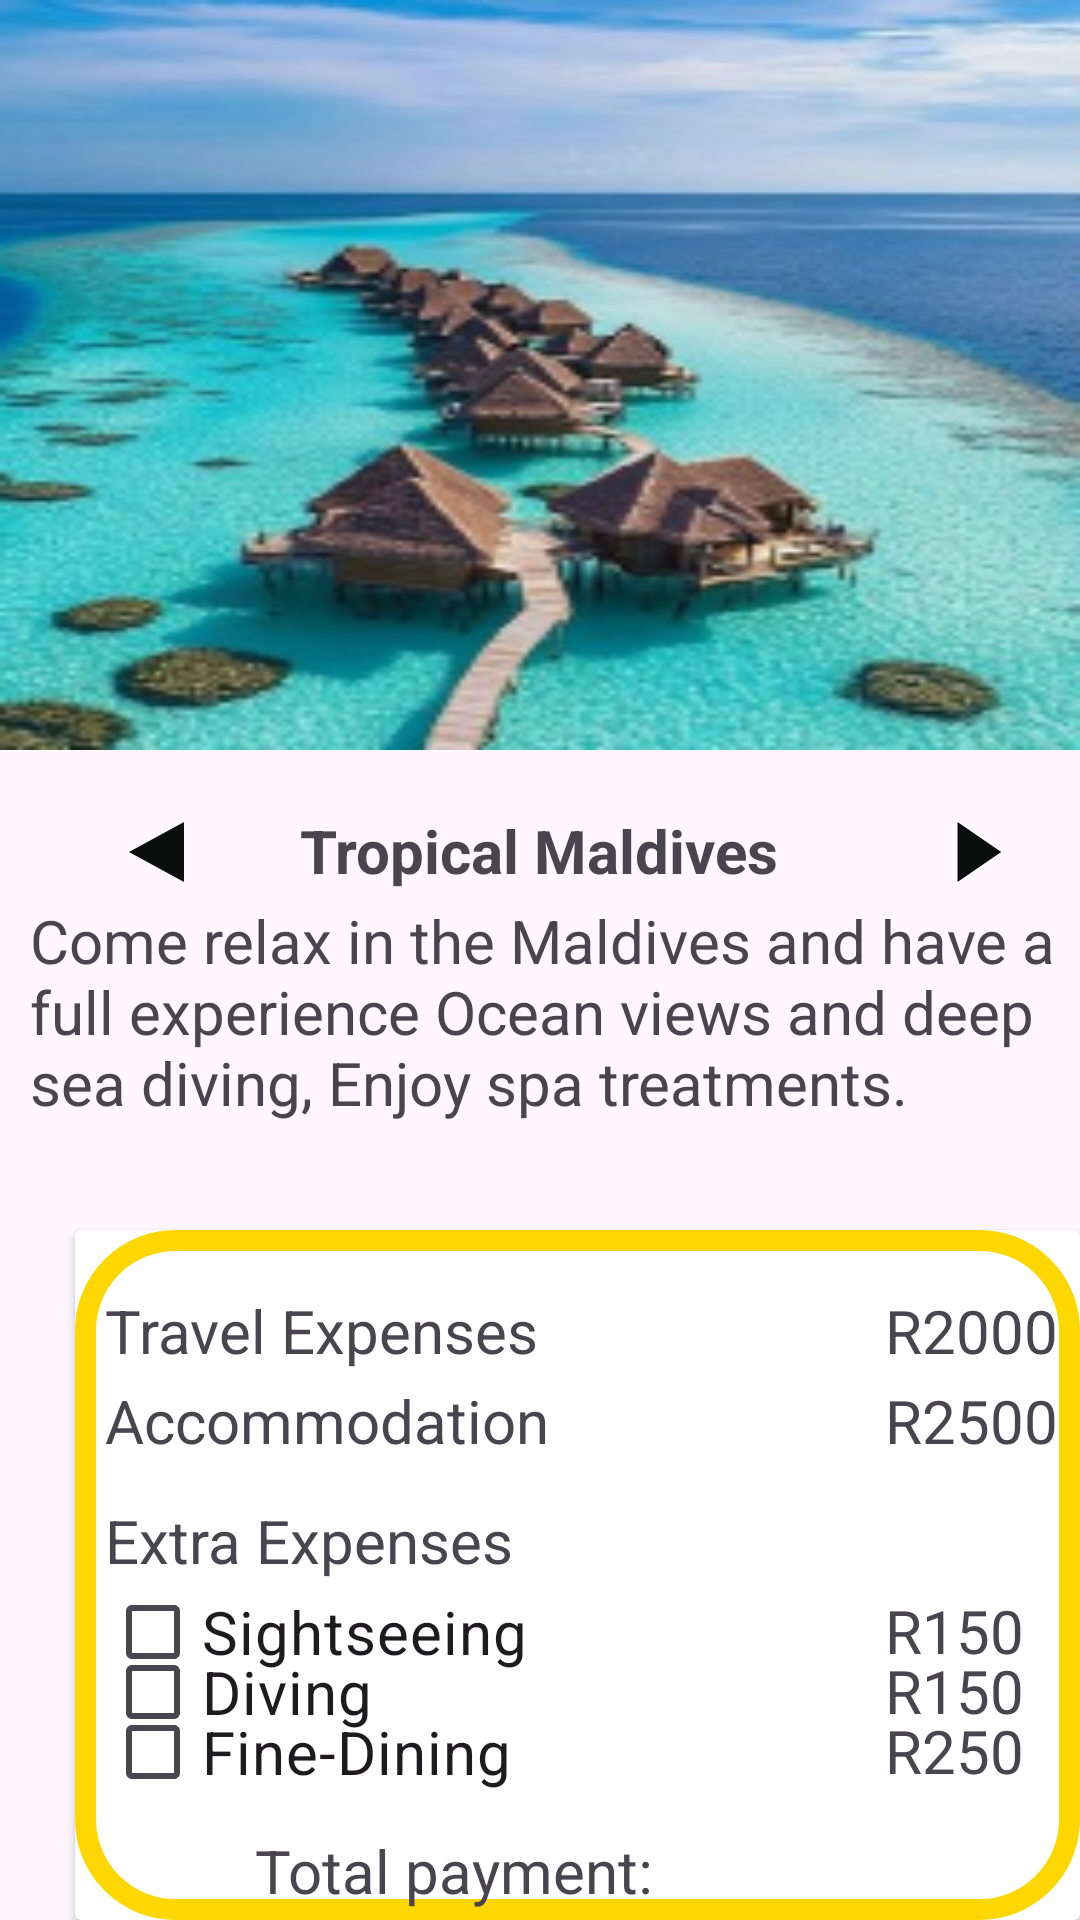

Point at icon controls on the screen. Image size 1080*1920, points as point (x, y).
arrow left: point (156, 852)
arrow right: point (979, 852)
